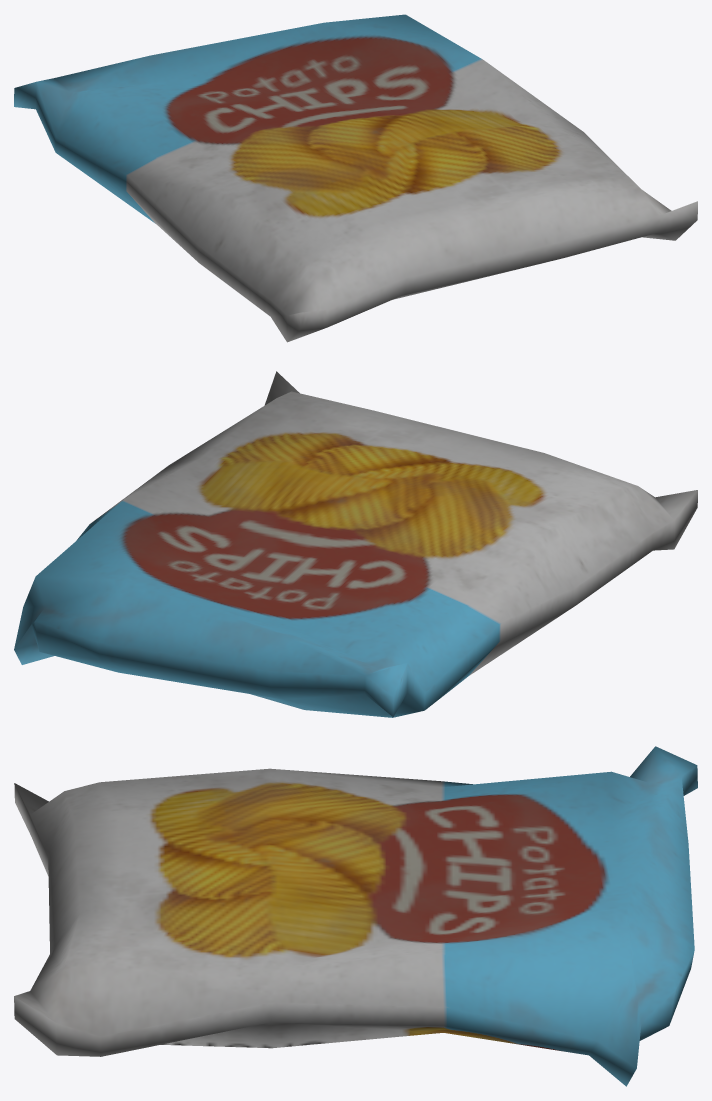
File: SM_Small_Trash_Debris_03.FBX
3 views of the same model, one above another, from view 1: azimuth 30°, elevation 25°; view 2: azimuth 150°, elevation 25°; view 3: azimuth 270°, elevation 25° (orthographic). The views are drawn at different scales.
Parts seen in each view (by area): view 1: SM_Small_Trash_Debris_03_LOD0; view 2: SM_Small_Trash_Debris_03_LOD0; view 3: SM_Small_Trash_Debris_03_LOD0.
Boxes of the visible parts, left/top/right/bottom form: SM_Small_Trash_Debris_03_LOD0: left=14, top=14, right=697, bottom=342; SM_Small_Trash_Debris_03_LOD0: left=14, top=371, right=697, bottom=717; SM_Small_Trash_Debris_03_LOD0: left=14, top=746, right=697, bottom=1086.
Size of what is drawn, in the model's own units: 12.57 by 15.74 by 3.3.
